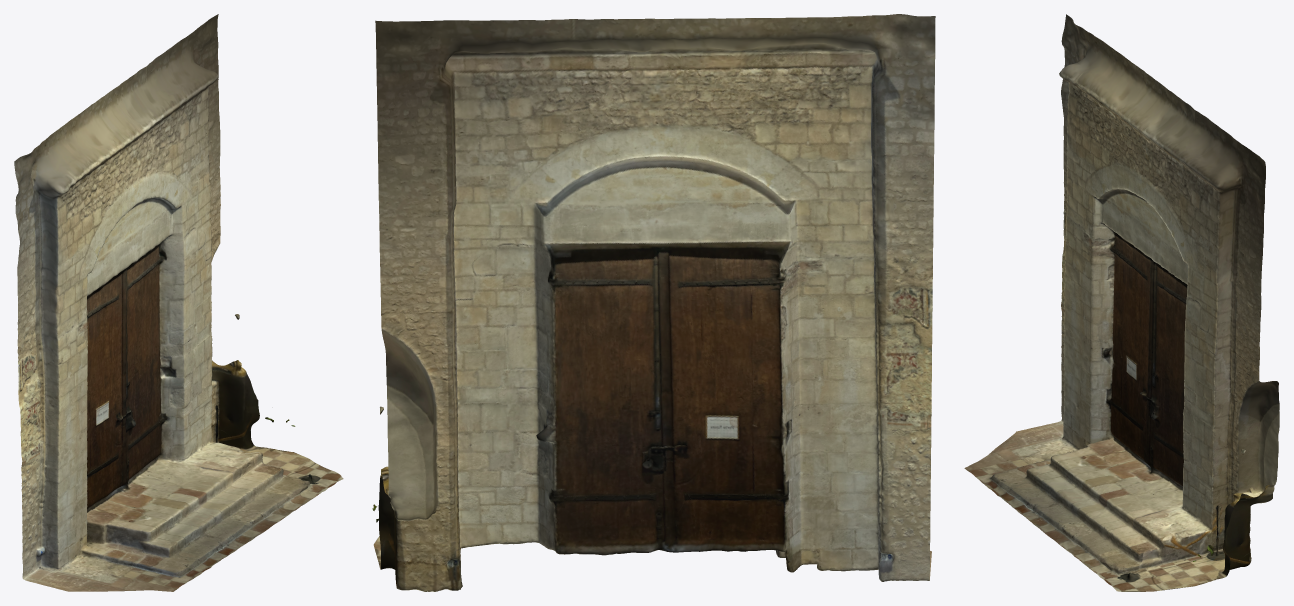
Rendered from PortaSanta.glb.
The picture shows the model from 3 angles, left to right: view 1: azimuth 30°, elevation 25°; view 2: azimuth 150°, elevation 25°; view 3: azimuth 270°, elevation 25°; orthographic projection. The views are drawn at different scales.
Visible parts, largest first — view 1: 3DModel; view 2: 3DModel; view 3: 3DModel.
Boxes of the visible parts, bbox=[...] form: 3DModel: bbox=[14, 14, 343, 591]; 3DModel: bbox=[372, 14, 935, 591]; 3DModel: bbox=[964, 14, 1279, 591].
Bounding box in the file's own units: 1.04 × 1.18 × 0.8246.
1 material, 1 textured.
